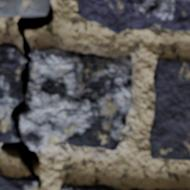brick: (150, 59, 189, 159), (78, 0, 189, 32), (0, 0, 49, 16), (0, 175, 37, 189), (60, 184, 114, 189)
broken_brick: (21, 48, 132, 151), (0, 42, 23, 143)
crack: (0, 2, 54, 187)
